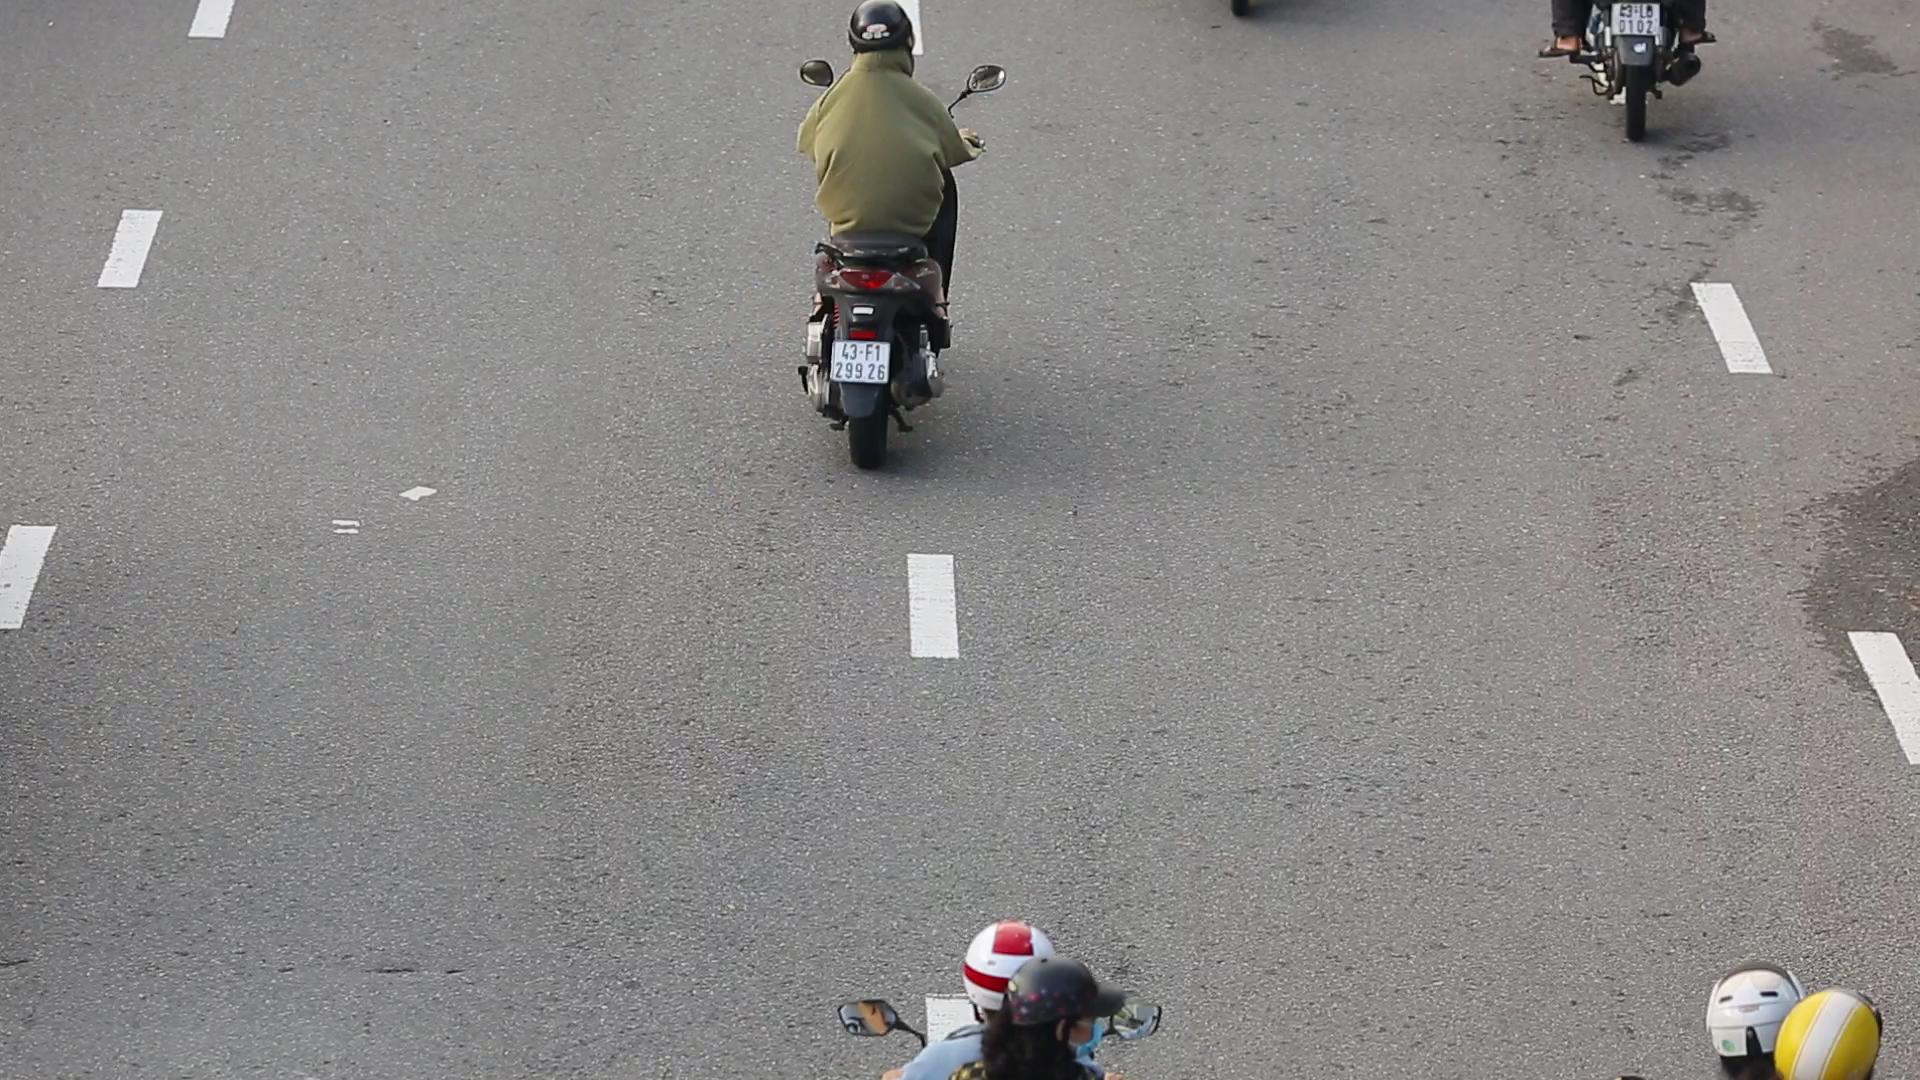motobike: (775, 0, 1002, 460)
